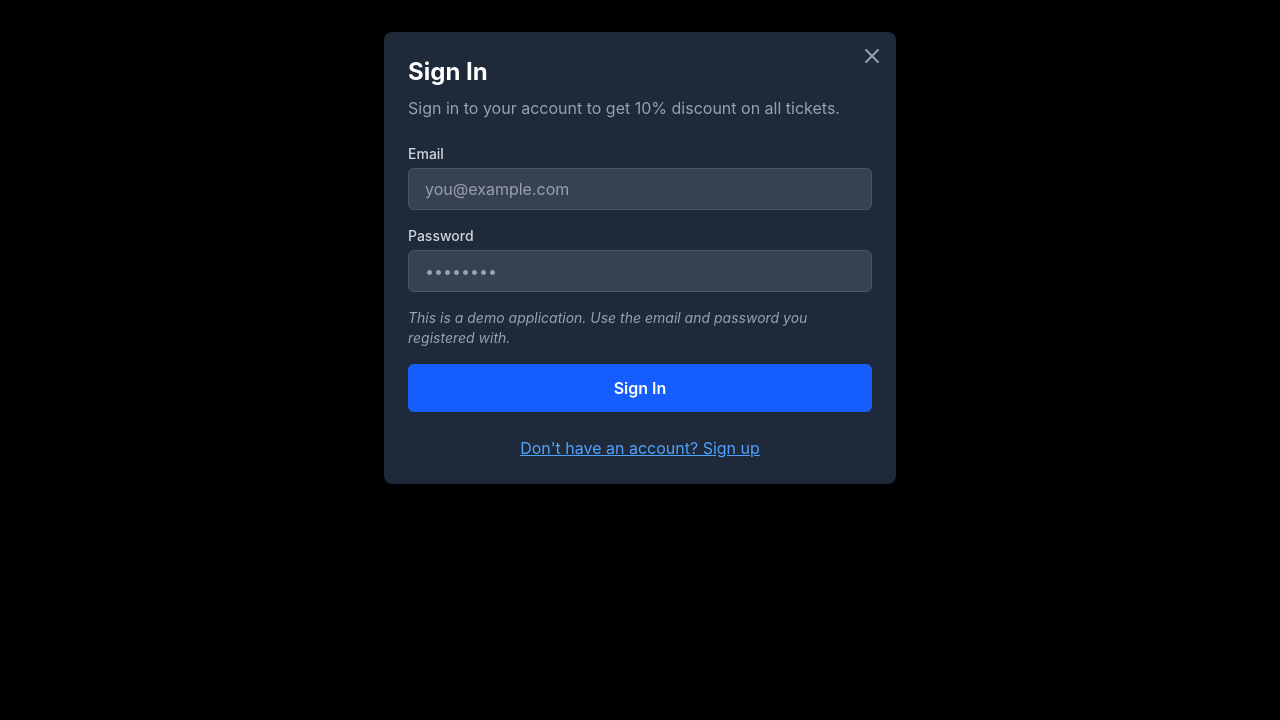
AuthModals › shows error message when login fails
The image size is (1280, 720).
Type "user@example.com" into the field labelled "Email". click: (640, 189)
box: 408,168 -> 872,210
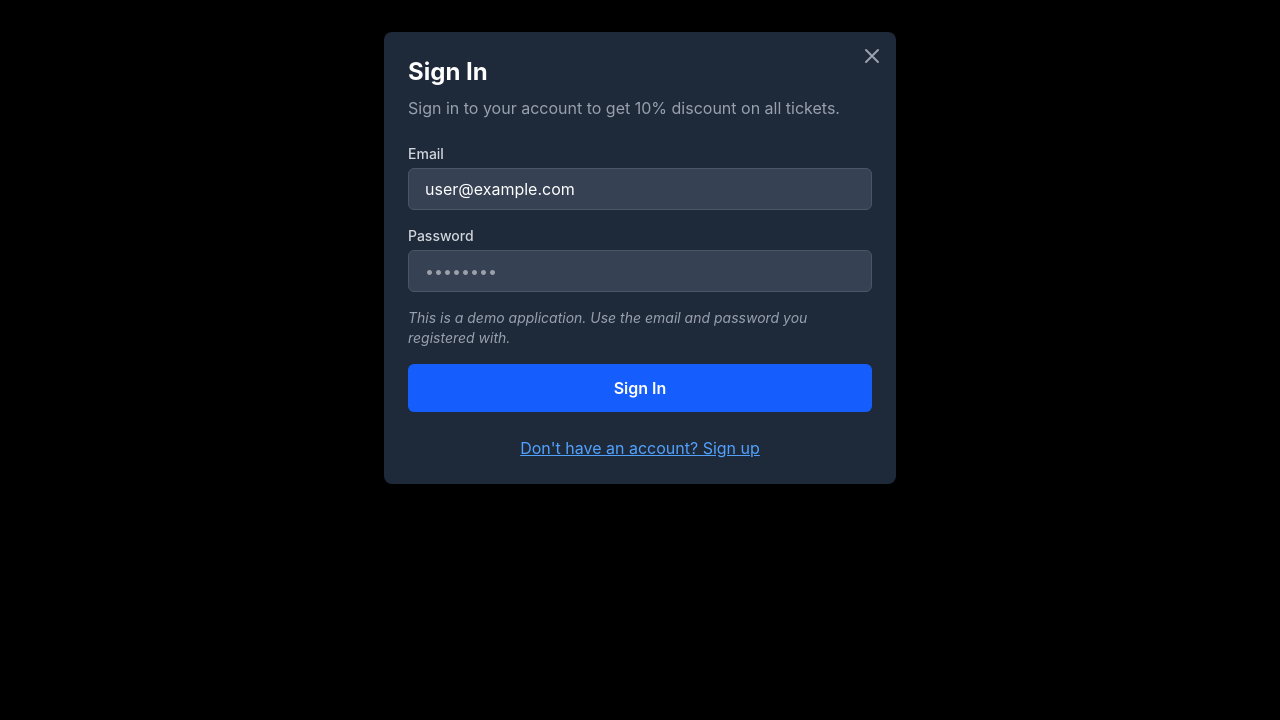
Type "wrong" into the password field labelled "Password". click: (640, 271)
box: 408,250 -> 872,292
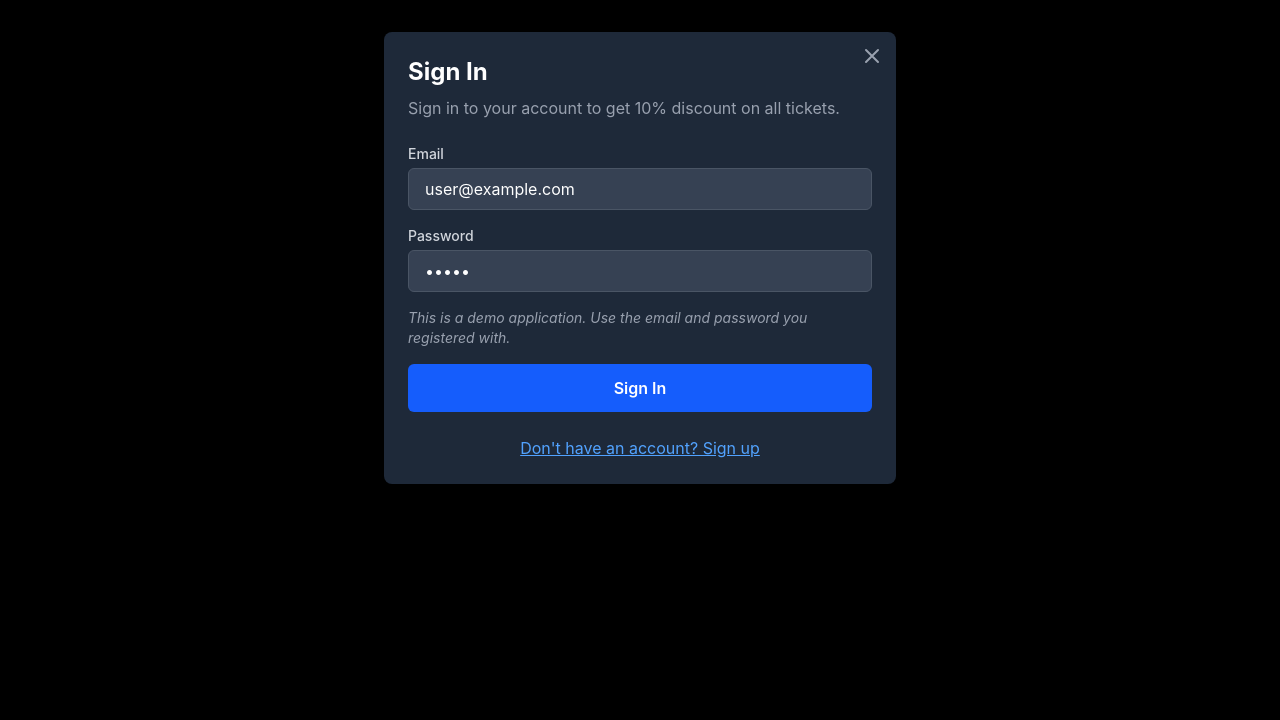
Click the button "Sign In". click: (640, 388)
box: 408,364 -> 872,412
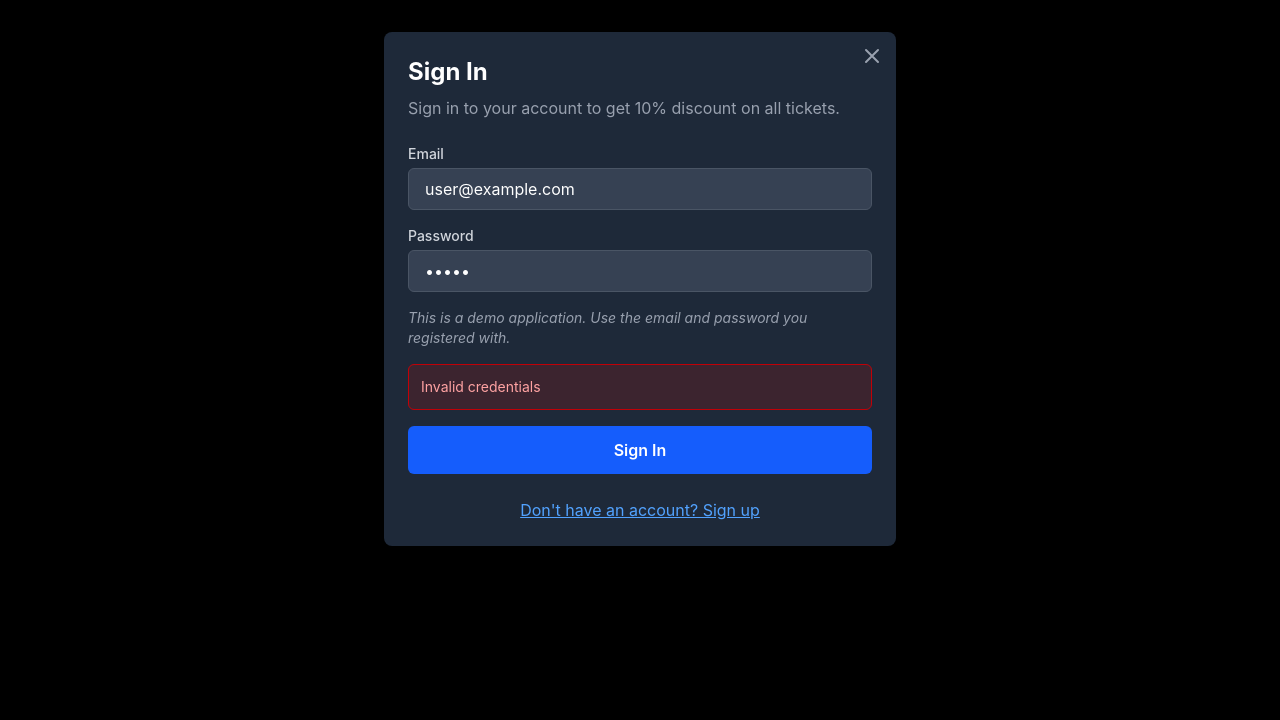
Expected: the text "Invalid credentials" is shown, 408,364 -> 872,410
